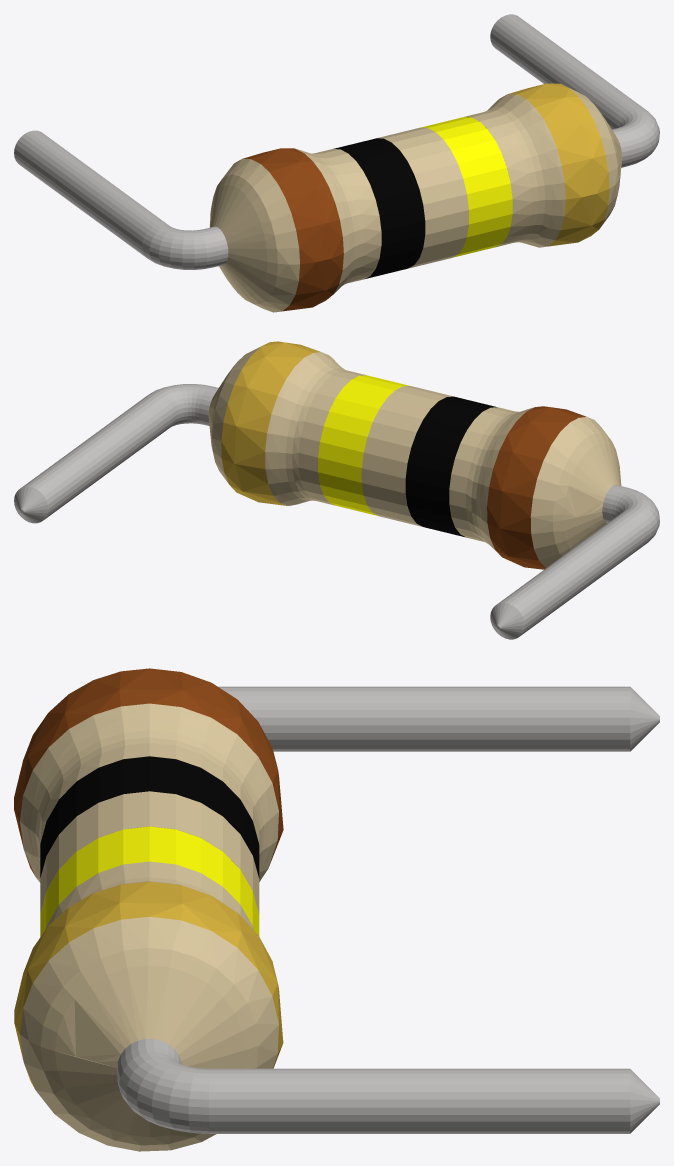
The model's file is Yageo CFR-25 Resistor Axial P7.62mm 100,0 kOhm.obj.
The picture shows the model from 3 angles, top to bottom: view 1: azimuth 30°, elevation 25°; view 2: azimuth 150°, elevation 25°; view 3: azimuth 270°, elevation 25°; orthographic projection. The views are drawn at different scales.
Parts seen in each view (by area): view 1: Yageo_CFR-25_Resistor_Axial_P7.62mm_100,0_kOhm; view 2: Yageo_CFR-25_Resistor_Axial_P7.62mm_100,0_kOhm; view 3: Yageo_CFR-25_Resistor_Axial_P7.62mm_100,0_kOhm.
Part boxes in pixels (x1,y1,x2,y2): Yageo_CFR-25_Resistor_Axial_P7.62mm_100,0_kOhm: (14,14,659,312); Yageo_CFR-25_Resistor_Axial_P7.62mm_100,0_kOhm: (14,341,659,639); Yageo_CFR-25_Resistor_Axial_P7.62mm_100,0_kOhm: (14,668,659,1151).
Size of the model in its own units: 0.0266 by 0.00734 by 0.0177.
